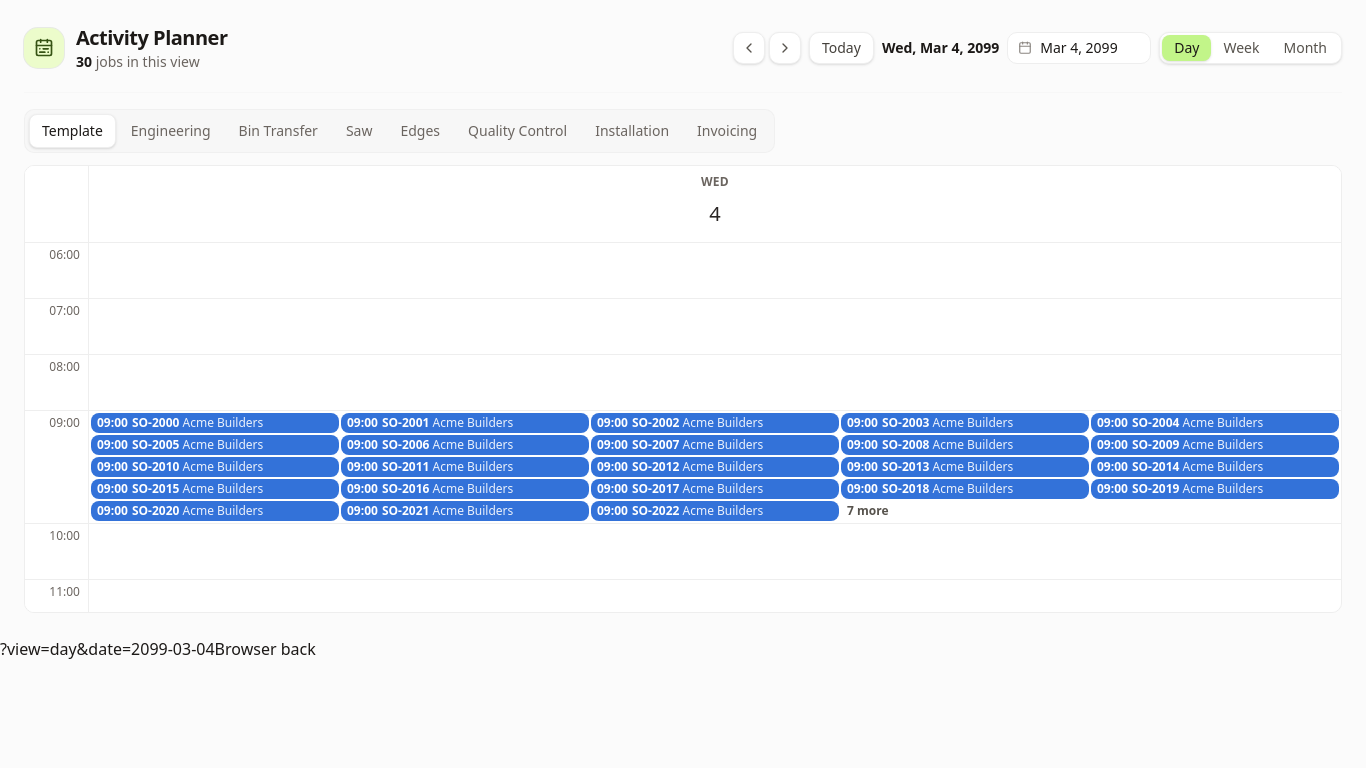
Scenario: ActivityPlannerPage busy days › still folds an extreme Day view hour, and the list holds all of it
(page scrolled)
Expected: the text "SO-2000" is shown, [132,415,179,431]
Click the button with aria-label "Show all 30 jobs for Wed, Mar 4, 09:00": (965, 511) [841,501,1089,521]
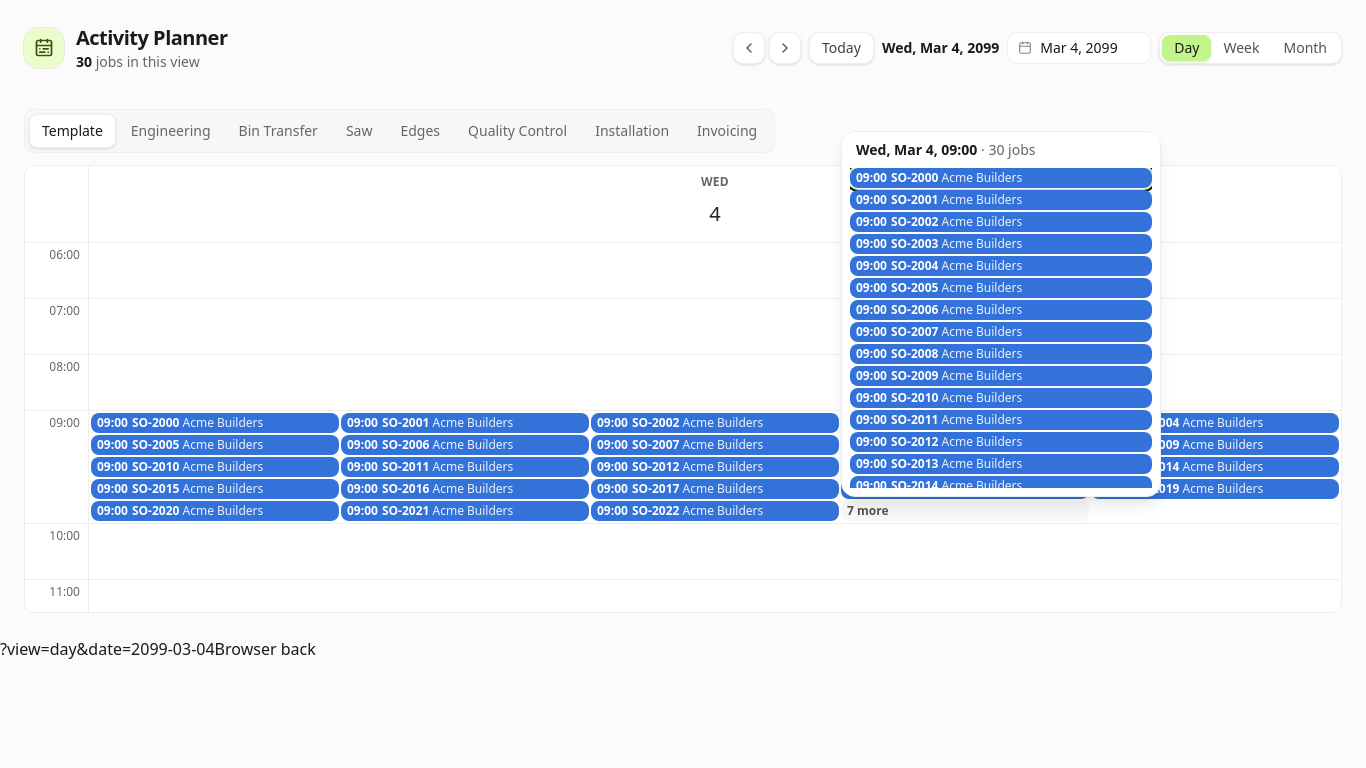
Expected: the number of buttons "09:00 SO-2000 Acme Builders" is 30
